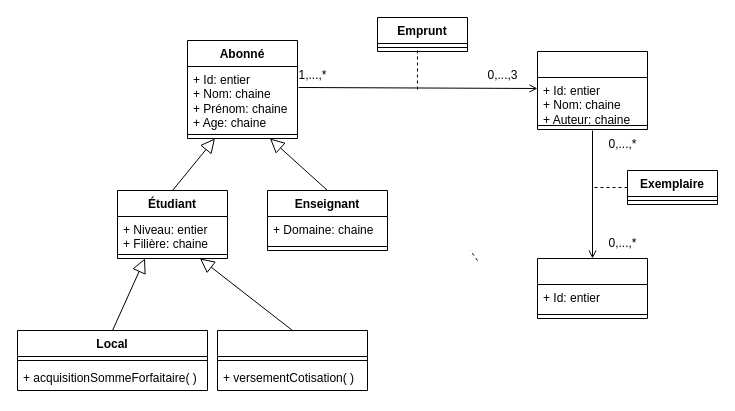
This 735x411 diagram has some shape labels left out. The box of each missing label's shape, as (x1, y1, x2, y2) in pixels:
Extérieur: (216, 330, 368, 390)
Ouvrage: (536, 50, 648, 130)
Rayon: (536, 258, 648, 318)
